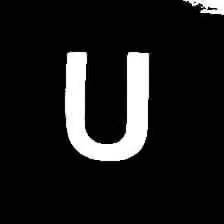LTR_U: (53, 41, 160, 167)
